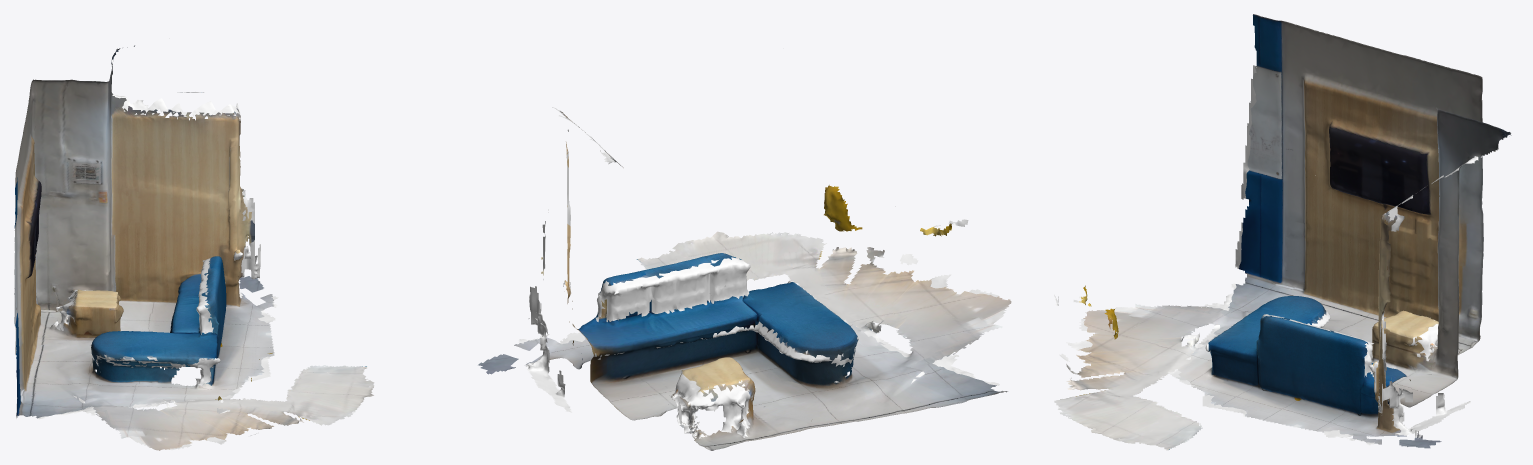
The picture shows the model from 3 angles, left to right: view 1: azimuth 30°, elevation 25°; view 2: azimuth 150°, elevation 25°; view 3: azimuth 270°, elevation 25°; orthographic projection. The views are drawn at different scales.
Visible parts, largest first — view 1: texture_1, texture_0, texture_2, object 1; view 2: texture_2, texture_0, object 1, texture_1; view 3: texture_0, texture_2, texture_1, object 1.
Part boxes in pixels (x1,y1,x2,y2): texture_1: (30,45,273,367); texture_0: (14,79,354,422); texture_2: (38,91,374,450); object 1: (14,38,367,450); texture_2: (565,132,1011,436); texture_0: (541,233,1007,450); object 1: (518,107,999,440); texture_1: (478,111,850,446); texture_0: (1067,14,1483,435); texture_2: (1054,141,1474,450); texture_1: (1221,108,1511,448); object 1: (1054,65,1511,450).
Size of the model in its own units: 4.79 by 3.17 by 4.82.
4 materials, 3 textured.
